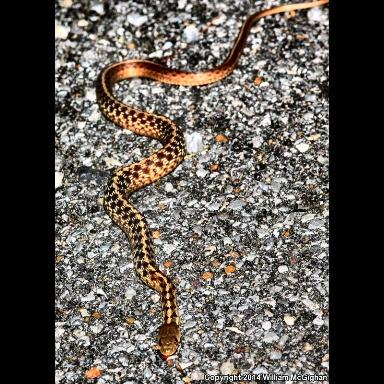snake: (95, 0, 331, 367)
